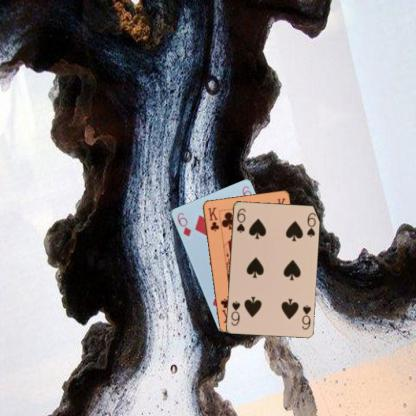6d: (174, 210, 192, 238)
6s: (299, 302, 312, 331), (234, 206, 247, 234)
Kc: (206, 205, 220, 232)
